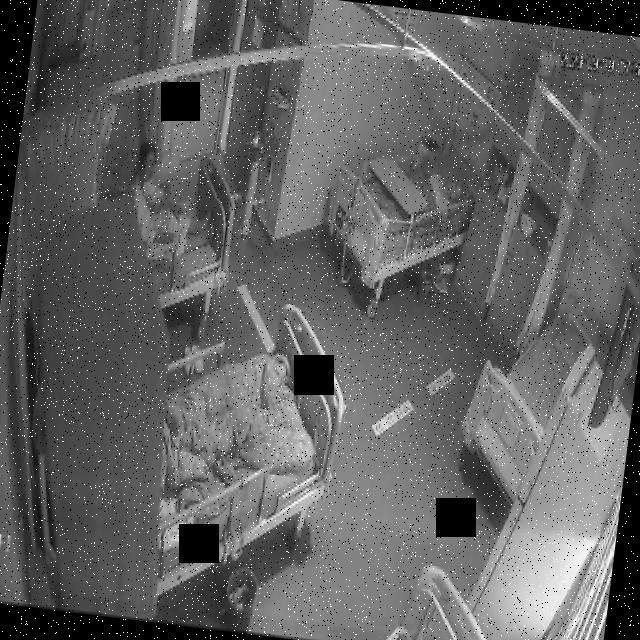bed: (144, 298, 350, 582), (322, 119, 482, 286), (468, 279, 596, 472), (130, 146, 244, 312)
patient: (121, 139, 222, 266), (416, 166, 465, 216)
sit: (123, 142, 225, 270)
